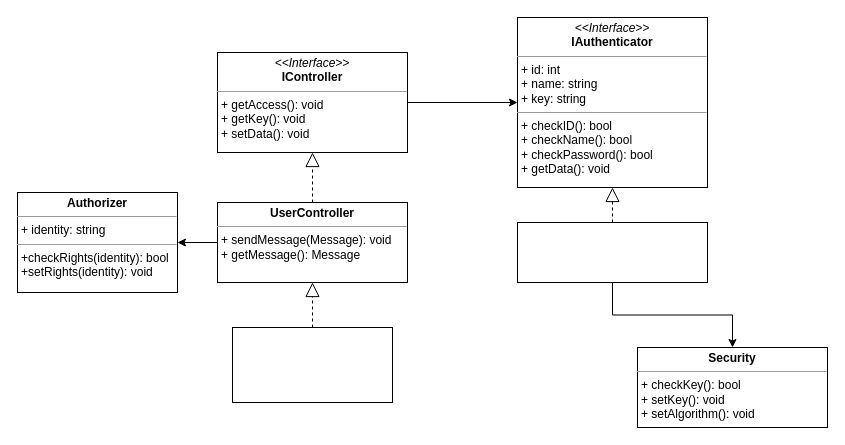
This 845x445 diagram has some shape labels left out. The centre of each missing label's shape, as x and y in pixels:
AdminController +generateKeys(): List <key> +getRights(identity): void: the point at 312,364
Authenticator: the point at 612,252
